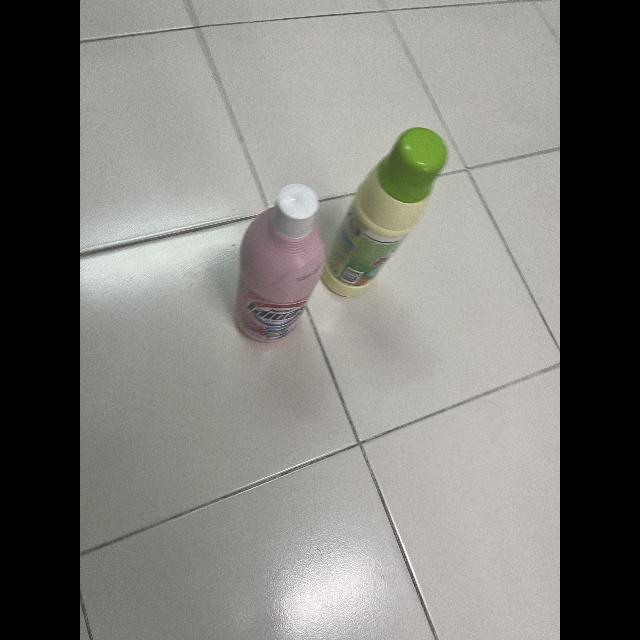chemical_plastic_bottle: (320, 124, 450, 302), (229, 178, 327, 354)
